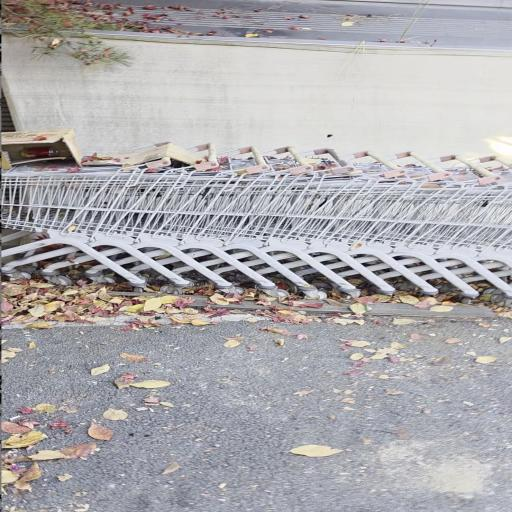combined_cart: (0, 141, 512, 301)
